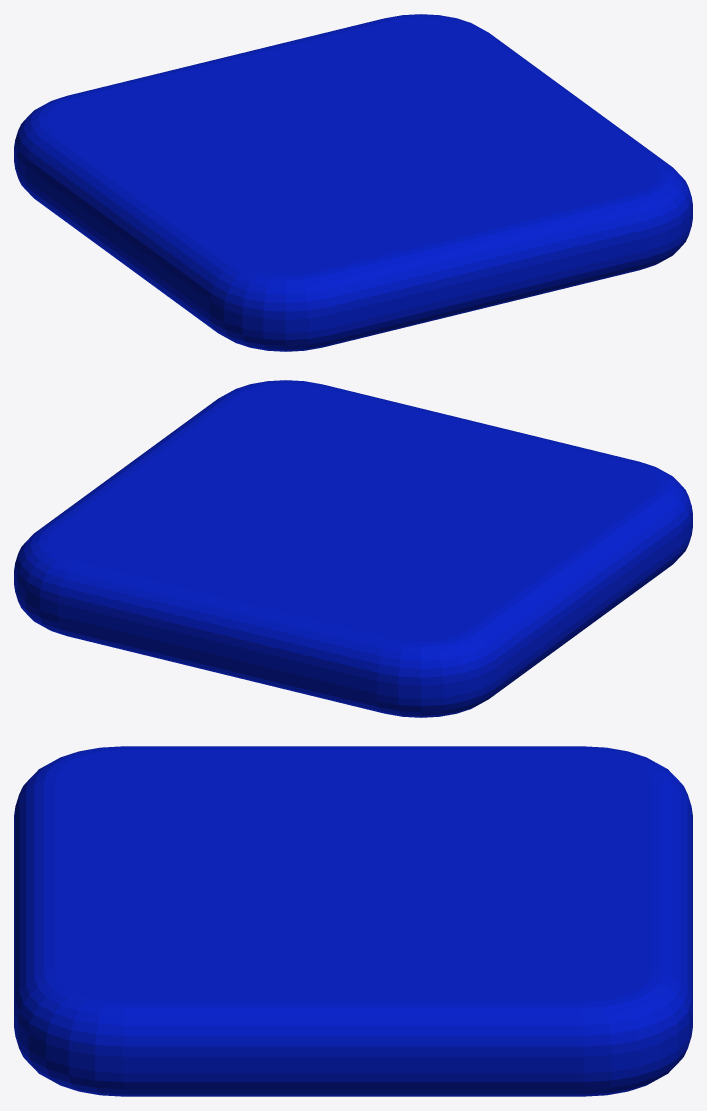
Rendered from SpringLower.obj.
3 views of the same model, one above another, from view 1: azimuth 30°, elevation 25°; view 2: azimuth 150°, elevation 25°; view 3: azimuth 270°, elevation 25° (orthographic). The views are drawn at different scales.
Parts seen in each view (by area): view 1: 立方体; view 2: 立方体; view 3: 立方体.
Boxes of the visible parts, x1,y1,x2,y2 form: 立方体: (14, 14, 692, 351); 立方体: (14, 380, 692, 717); 立方体: (14, 746, 692, 1096).
Bounding box in the file's own units: 7.57 × 1.12 × 7.57.
